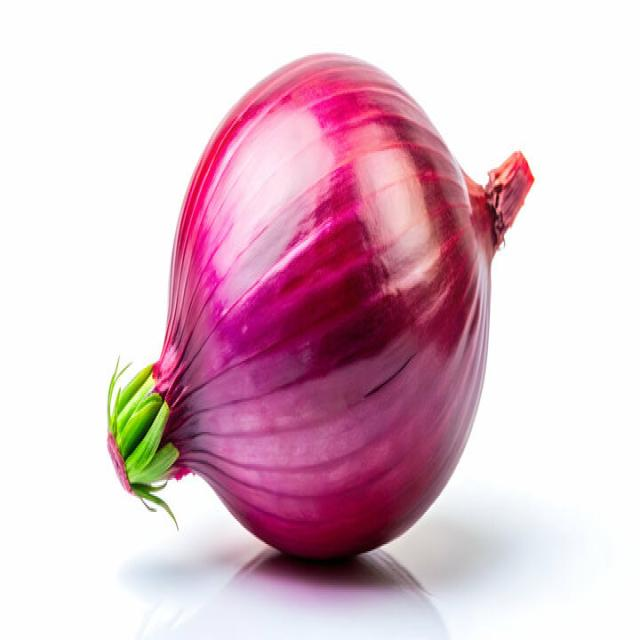Onion: (106, 50, 534, 562)
